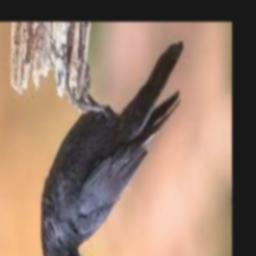Crow: (42, 40, 185, 256)
